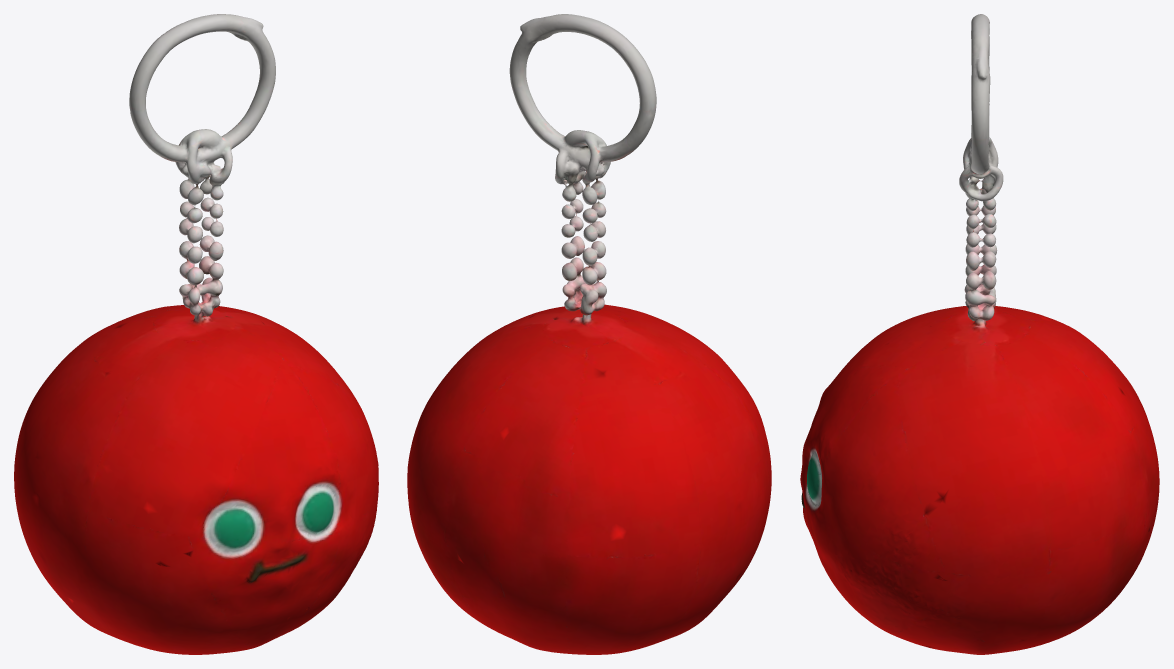
File: hanging-ball-red.glb
3 renders of one model, left to right at view 1: azimuth 30°, elevation 25°; view 2: azimuth 150°, elevation 25°; view 3: azimuth 270°, elevation 25°, orthographic.
Bounding box in the file's own units: 1.06 × 2 × 1.06.
Materials: 1 (1 with a texture image).
